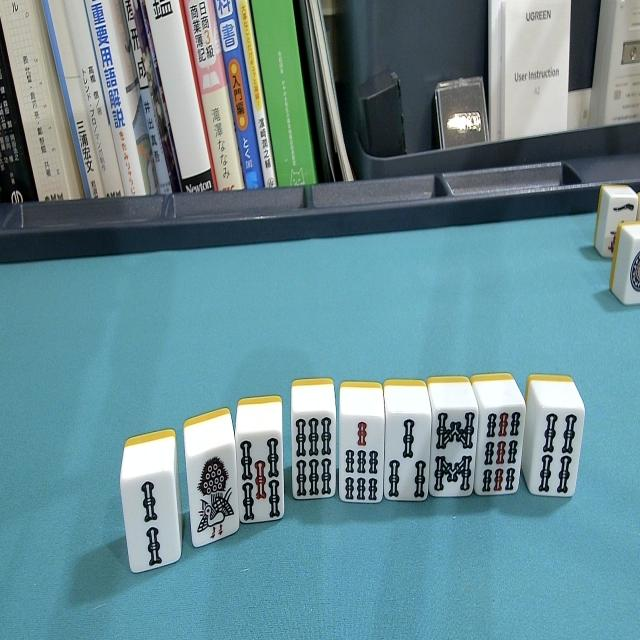tile: (123, 434, 181, 572), (180, 418, 240, 546), (234, 402, 286, 524), (528, 375, 578, 499), (428, 375, 474, 502), (340, 380, 385, 506), (291, 380, 337, 500), (476, 374, 520, 495), (387, 378, 429, 501)
